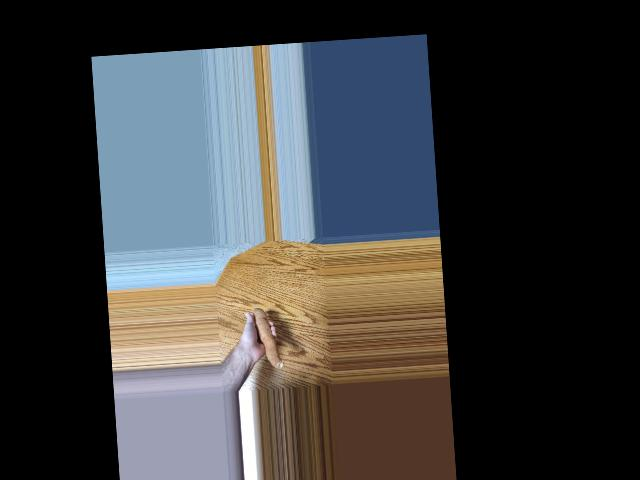sweet_potato: (253, 306, 273, 370)
